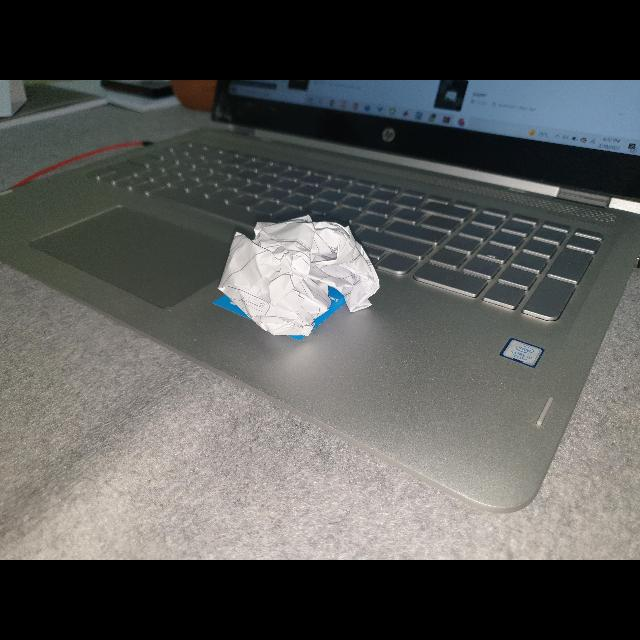scrap_paper: (212, 208, 384, 350)
